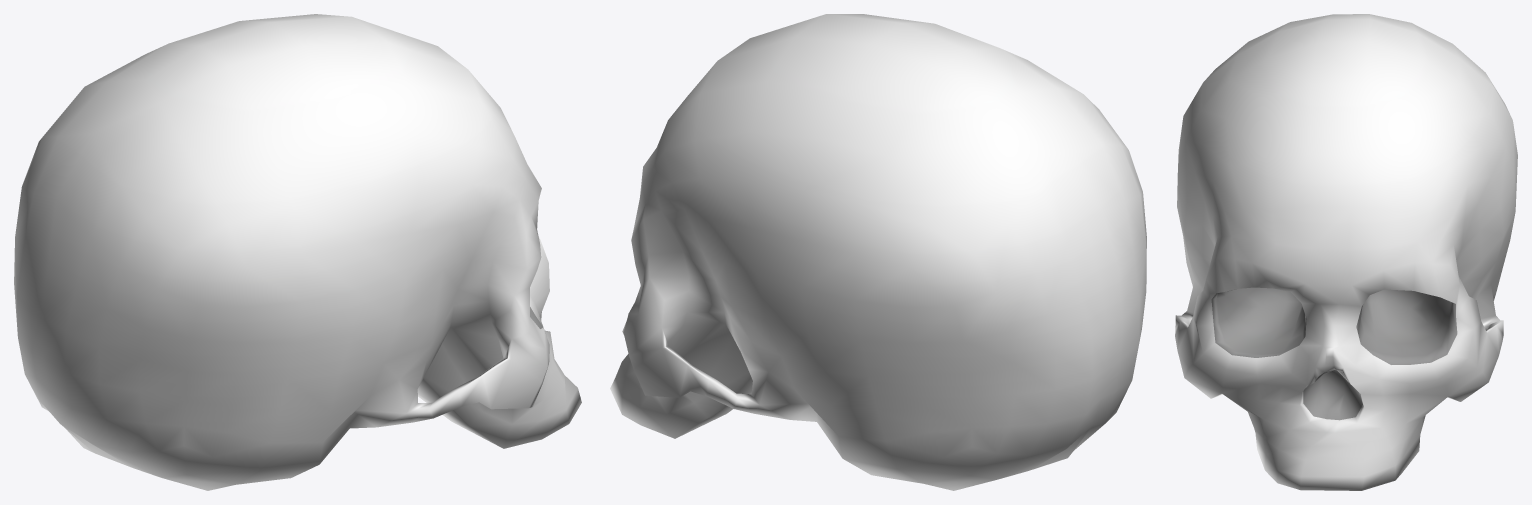
File: SM_Skull_01.fbx
3 renders of one model, left to right at view 1: azimuth 30°, elevation 25°; view 2: azimuth 150°, elevation 25°; view 3: azimuth 270°, elevation 25°, orthographic. The views are drawn at different scales.
Parts seen in each view (by area): view 1: SM_Skull_01; view 2: SM_Skull_01; view 3: SM_Skull_01.
Part boxes in pixels (x1=…): SM_Skull_01: x1=14, y1=14, x2=581, y2=490; SM_Skull_01: x1=610, y1=14, x2=1146, y2=490; SM_Skull_01: x1=1175, y1=14, x2=1517, y2=490.
Size of the model in its own units: 150 by 118 by 106.
1 material, 1 textured.
